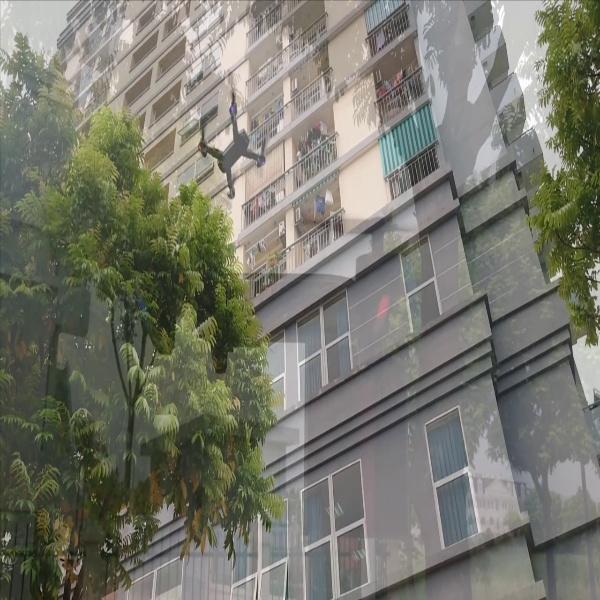drone: (190, 83, 274, 195)
